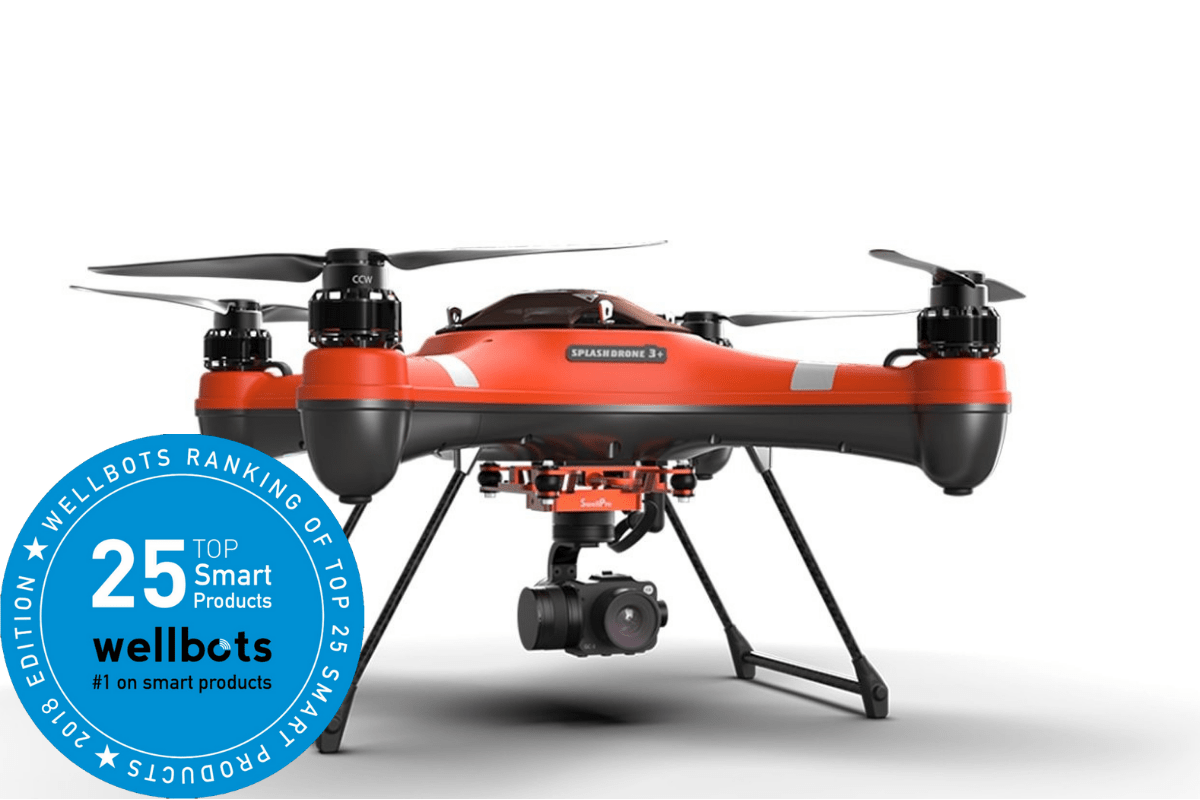drone: (73, 236, 1050, 444)
